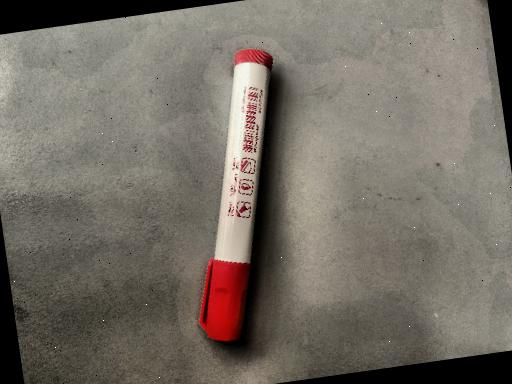marcador rojo: (200, 48, 273, 341)
